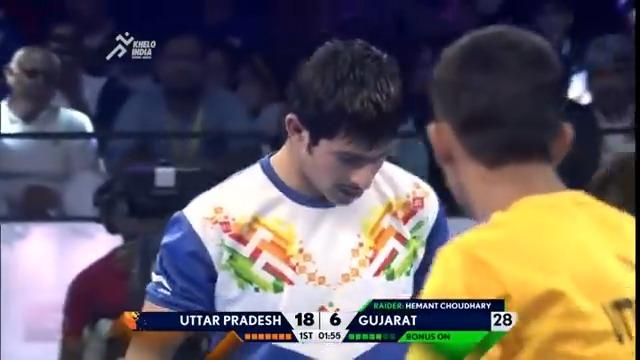Player: (403, 24, 636, 358)
Raider: (122, 36, 450, 358)
referee: (58, 34, 277, 358), (58, 149, 221, 358)
